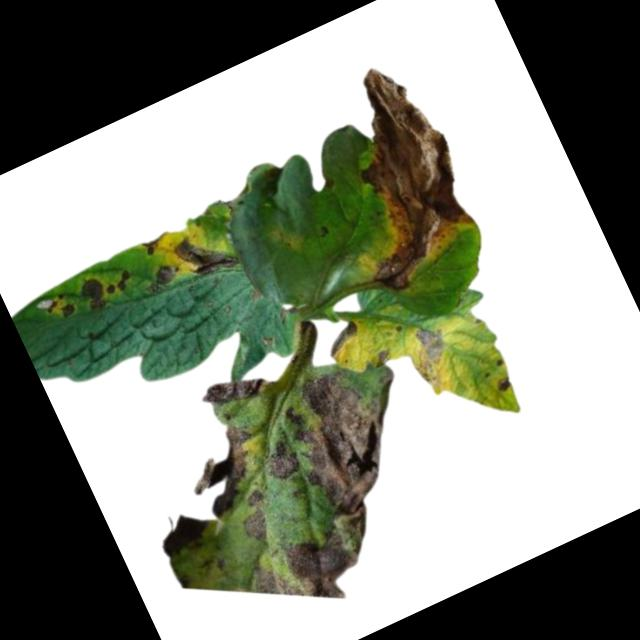Early_blight: (293, 50, 497, 299), (269, 342, 436, 517), (244, 503, 395, 628), (171, 418, 273, 521), (169, 221, 238, 288), (397, 316, 460, 386), (197, 363, 271, 419), (146, 501, 211, 558), (256, 430, 304, 483), (225, 503, 274, 552), (320, 319, 365, 359), (72, 271, 109, 314), (35, 287, 75, 326), (139, 260, 176, 295), (98, 267, 133, 298), (138, 230, 173, 258), (370, 346, 393, 369), (491, 373, 514, 395)
